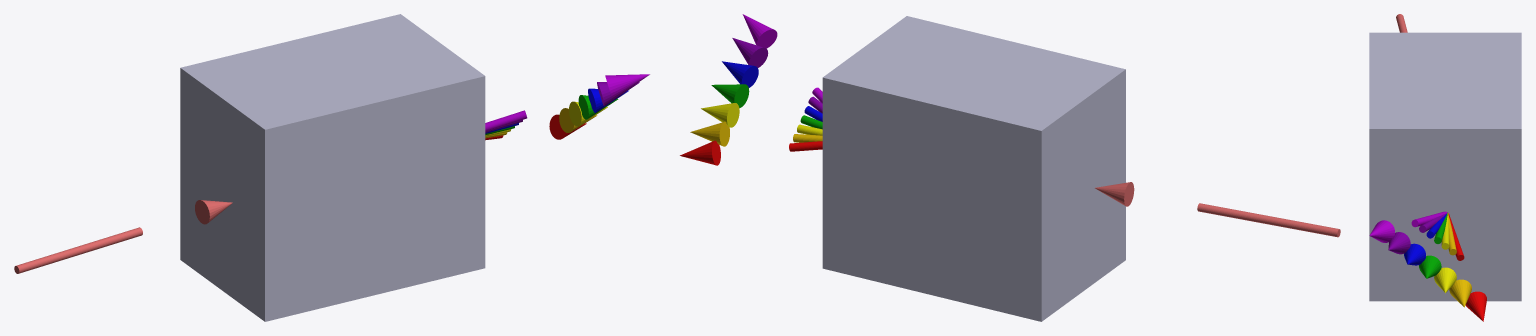
File: prism_dispersion.glb
3 renders of one model, left to right at view 1: azimuth 30°, elevation 25°; view 2: azimuth 150°, elevation 25°; view 3: azimuth 270°, elevation 25°, orthographic. The views are drawn at different scales.
Parts seen in each view (by area): view 1: world; view 2: world; view 3: world.
Part boxes in pixels (x1=…): world: x1=14, y1=14, x2=649, y2=321; world: x1=680, y1=14, x2=1340, y2=321; world: x1=1369, y1=14, x2=1521, y2=321.
Bounding box in the file's own units: 3.36 × 1 × 0.8.
